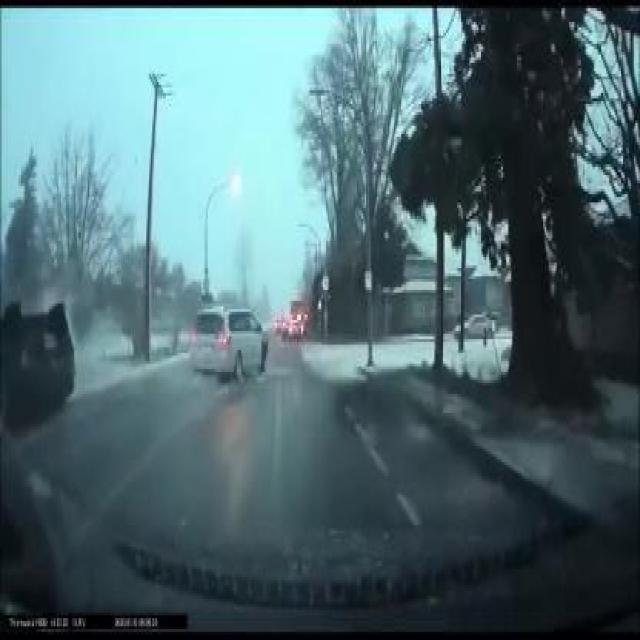accident: (3, 293, 79, 435)
